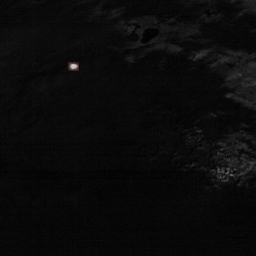Target: (68, 62, 78, 70)
